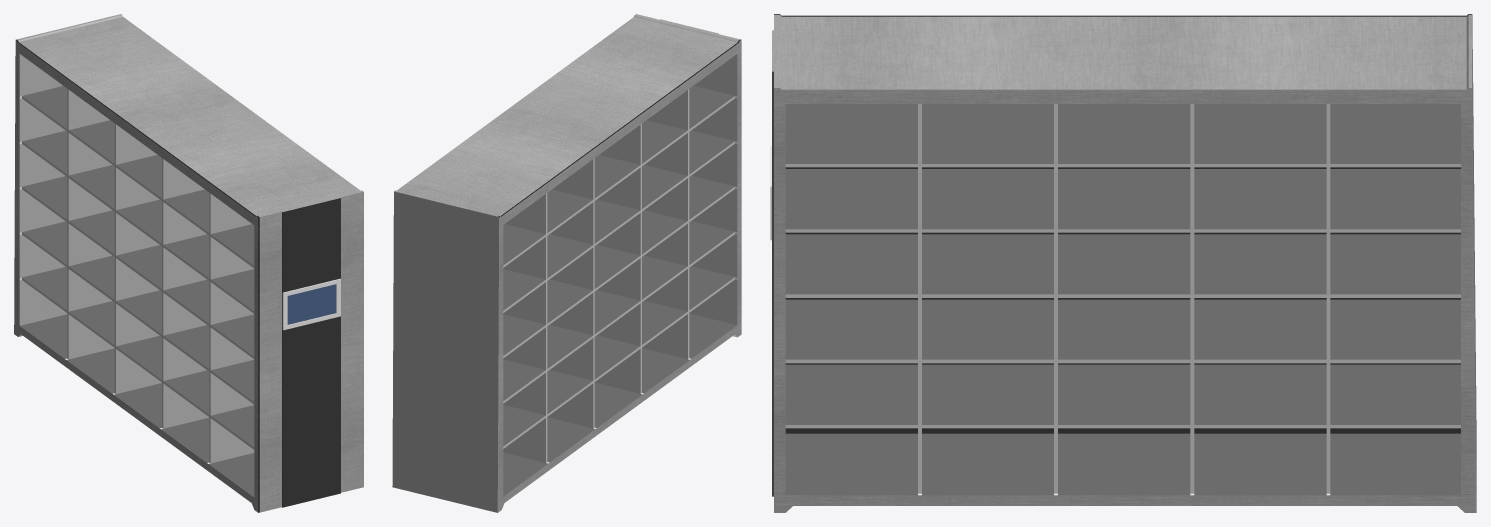
The model's file is mjjcenter6-5-fit.obj.
3 views of the same model, side by side, from view 1: azimuth 30°, elevation 25°; view 2: azimuth 150°, elevation 25°; view 3: azimuth 270°, elevation 25° (orthographic). The views are drawn at different scales.
Parts seen in each view (by area): view 1: mjj, Mesh02; view 2: mjj; view 3: mjj.
Boxes of the visible parts, x1,y1,x2,y2 form: mjj: (14, 14, 363, 512); Mesh02: (282, 278, 340, 330); mjj: (392, 14, 741, 512); mjj: (772, 14, 1476, 512).
Size of the model in its own units: 35.44 by 94.93 by 143.
